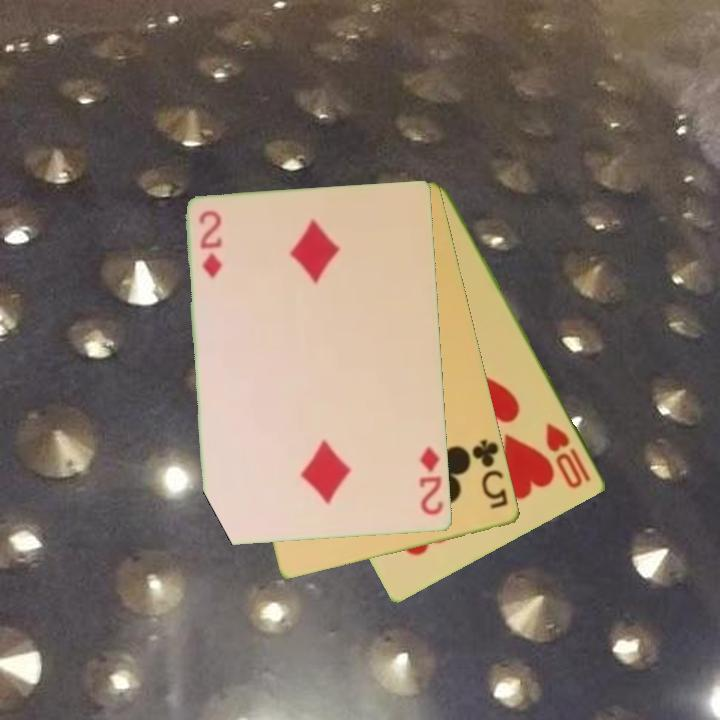10h: (542, 419, 594, 492)
2d: (416, 443, 447, 518), (196, 207, 225, 282)
5c: (465, 435, 512, 512)
